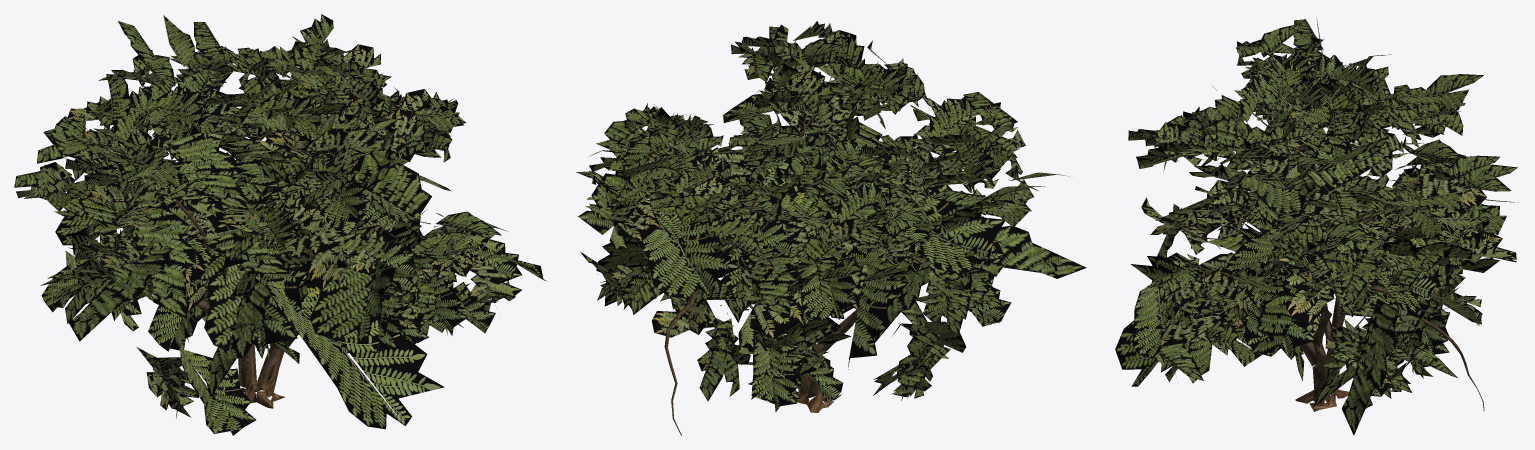
Rendered from tree_tall_far.glb.
3 views of the same model, side by side, from view 1: azimuth 30°, elevation 25°; view 2: azimuth 150°, elevation 25°; view 3: azimuth 270°, elevation 25° (orthographic). The views are drawn at different scales.
Parts seen in each view (by area): view 1: tree_tall; view 2: tree_tall; view 3: tree_tall.
Part boxes in pixels (box(x1,y1,x2,y2)): tree_tall: box(14, 14, 546, 435); tree_tall: box(576, 21, 1086, 435); tree_tall: box(1115, 18, 1518, 435).
Size of the model in its own units: 7.13 by 5.24 by 5.65.
Materials: 3 (3 with a texture image).
